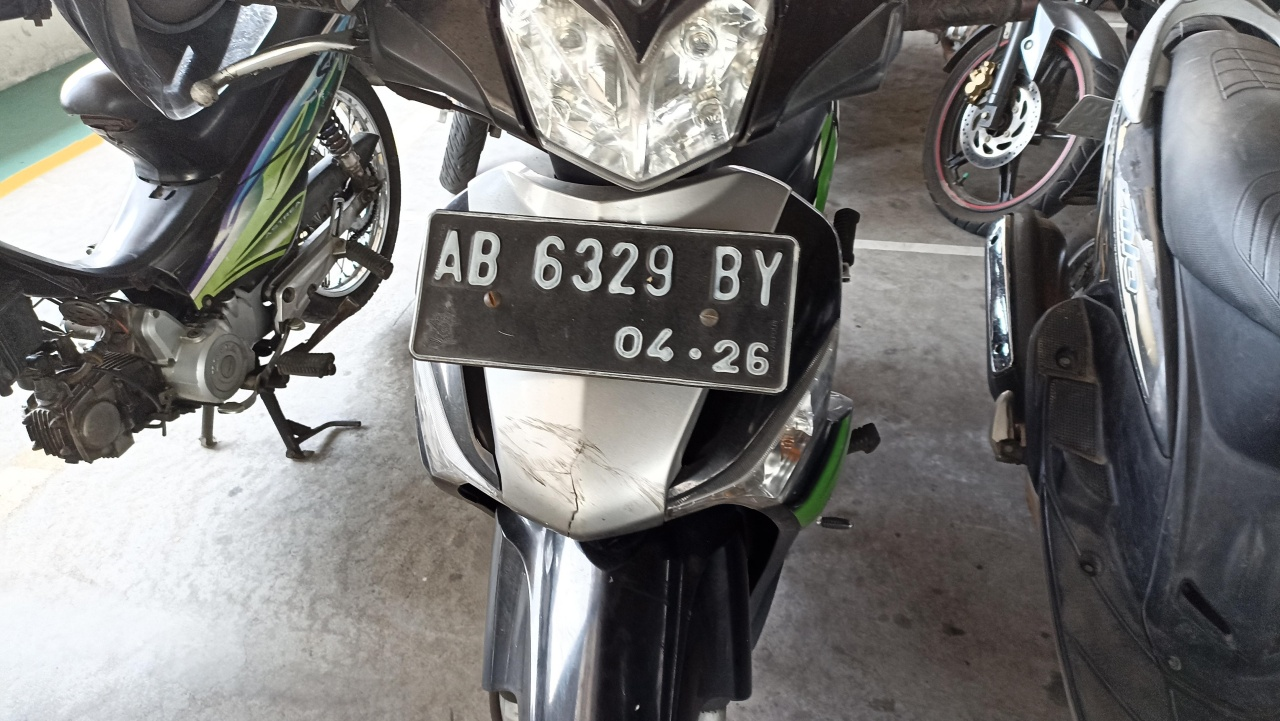plate: (412, 209, 798, 393)
